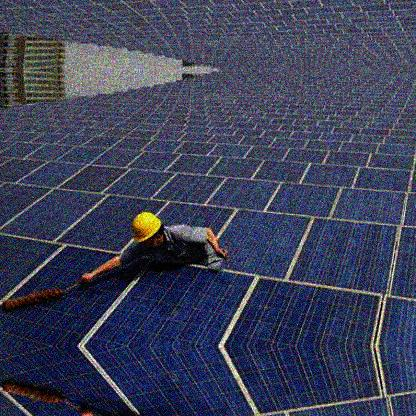helmet: (130, 211, 162, 249)
